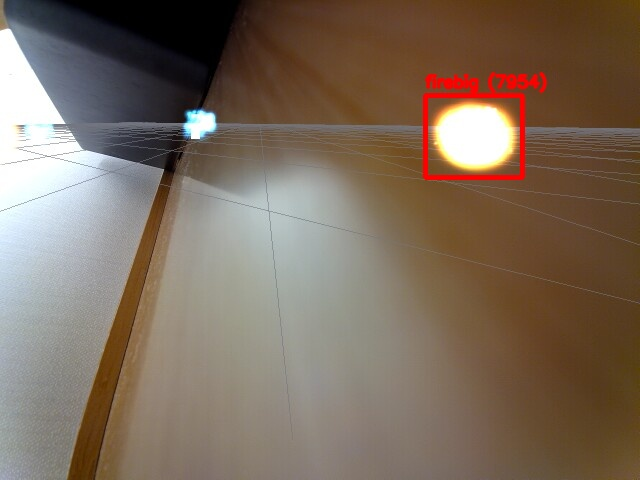firebig: (425, 95, 522, 177)
